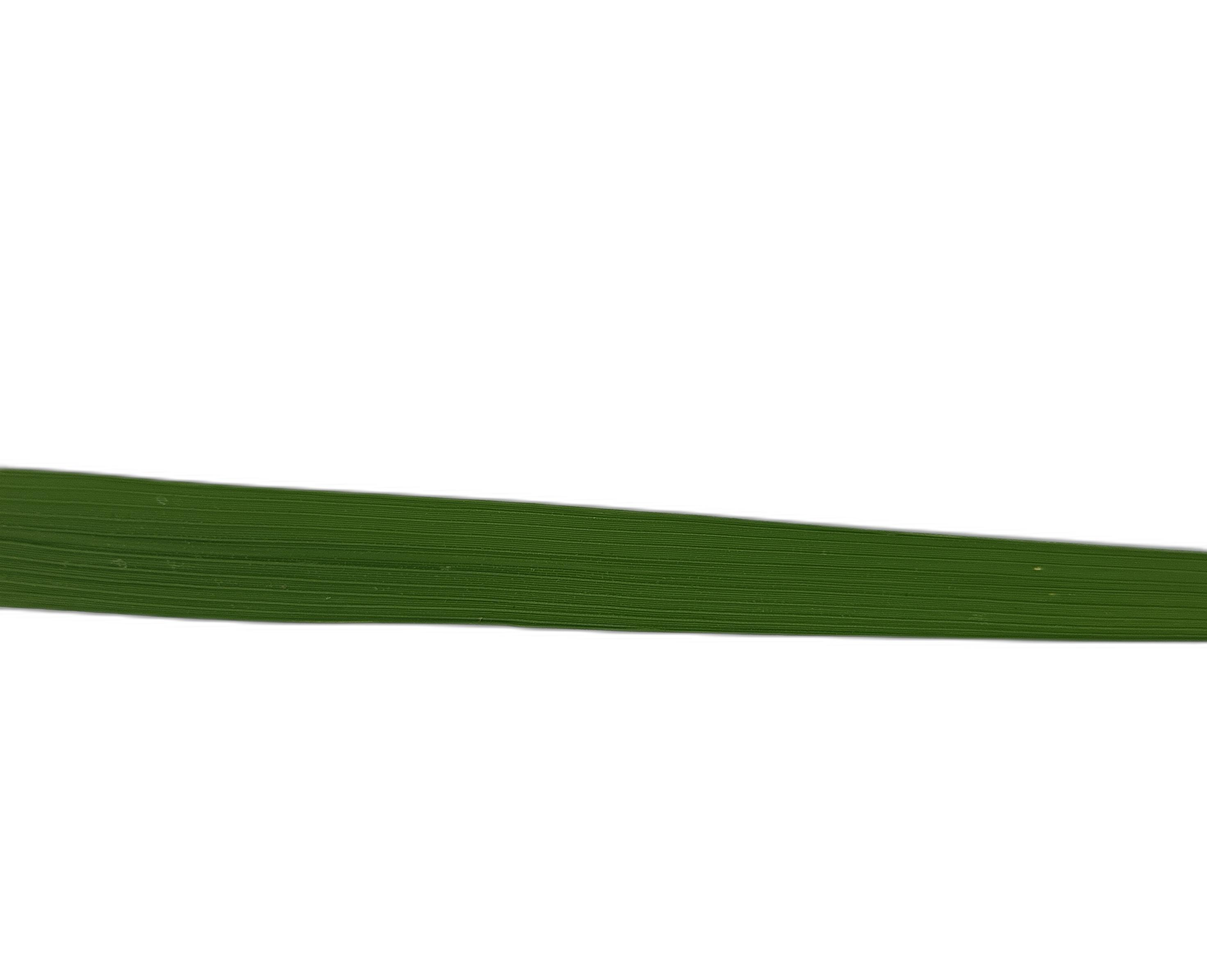Healthy: (0, 469, 1207, 641)
